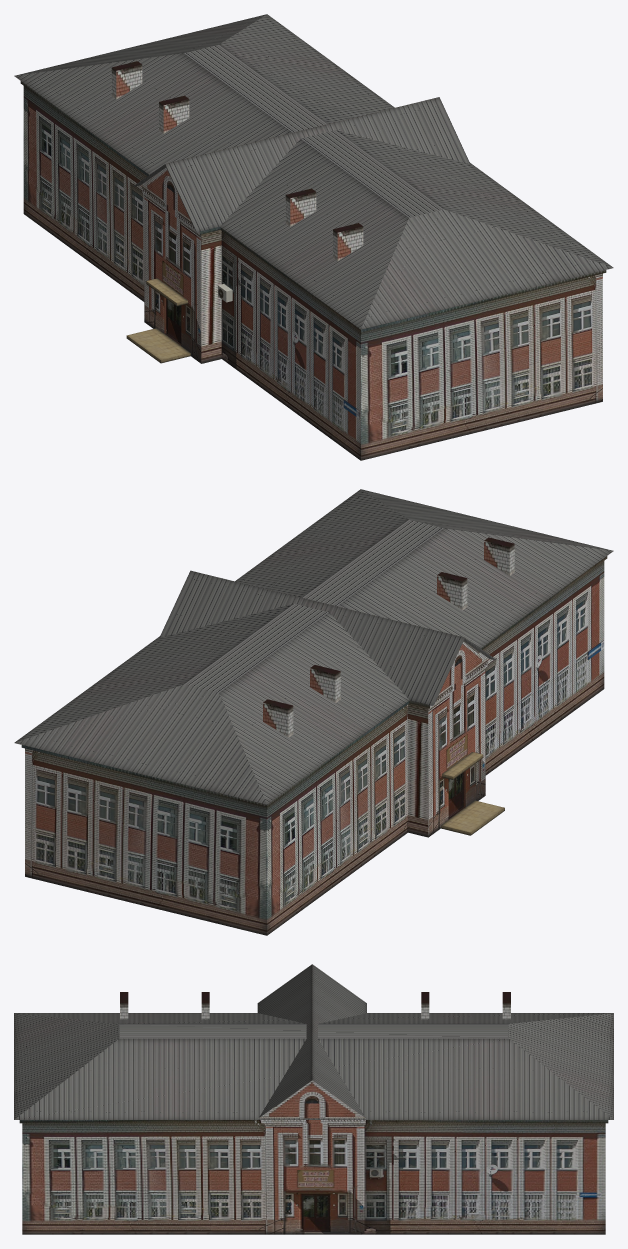
Rendered from r402_ishim_ikhleb.FBX.
3 views of the same model, one above another, from view 1: azimuth 30°, elevation 25°; view 2: azimuth 150°, elevation 25°; view 3: azimuth 270°, elevation 25° (orthographic). The views are drawn at different scales.
Parts seen in each view (by area): view 1: r402_ishim_ikhleb; view 2: r402_ishim_ikhleb; view 3: r402_ishim_ikhleb.
Boxes of the visible parts, bbox=[...] form: r402_ishim_ikhleb: bbox=[14, 14, 613, 460]; r402_ishim_ikhleb: bbox=[14, 489, 613, 935]; r402_ishim_ikhleb: bbox=[14, 964, 613, 1234].
Bounding box in the file's own units: 1536 × 3090 × 890.
